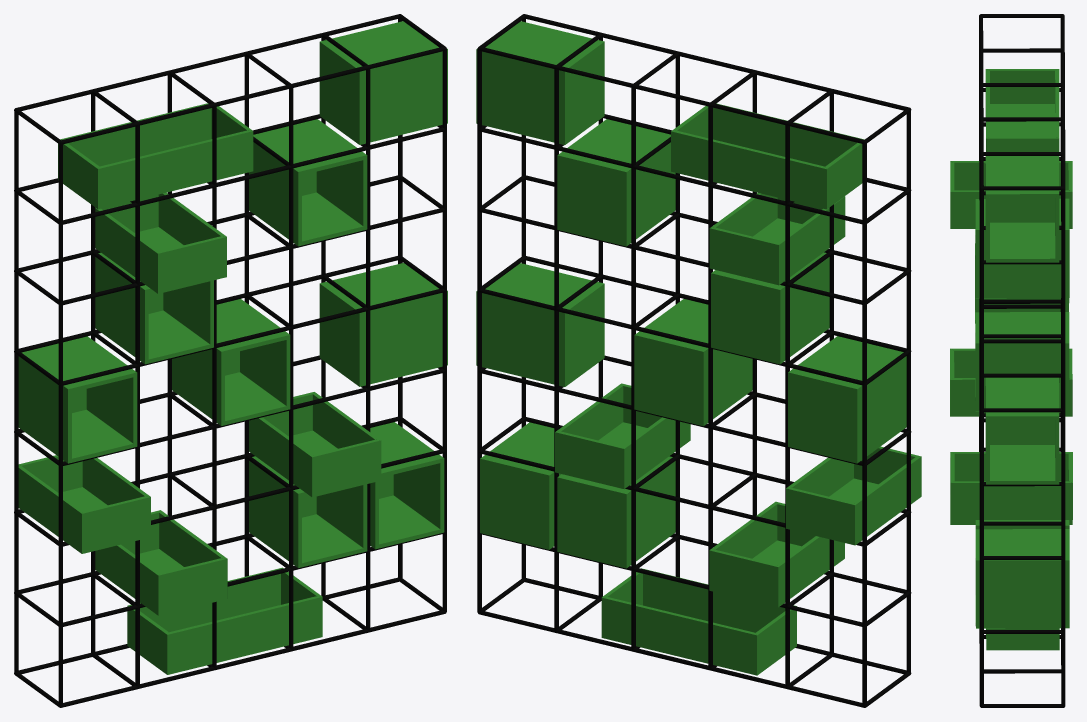
The model's file is Iron shelf.FBX.
3 renders of one model, left to right at view 1: azimuth 30°, elevation 25°; view 2: azimuth 150°, elevation 25°; view 3: azimuth 270°, elevation 25°, orthographic. The views are drawn at different scales.
Parts seen in each view (by area): view 1: Box074, Box075, Box069, Box067, Box064, Box068, Box063, Box072, Box071, Box073, Box070, Box066 (+34 smaller); view 2: Box074, Box075, Box069, Box067, Box064, Box068, Box063, Box066, Box065, Box072, Box071, Box070 (+35 smaller); view 3: Box062, Box067, Box069, Box074, Box063, Box071, Box068, Box073, Box072, Rectangle082, Box075, Rectangle084 (+18 smaller).
Part boxes in pixels (left/top/right/bottom): Box074: left=58, top=103, right=253, bottom=209; Box075: left=127, top=567, right=322, bottom=674; Box069: left=319, top=21, right=447, bottom=144; Box067: left=319, top=263, right=447, bottom=386; Box064: left=18, top=336, right=137, bottom=463; Box068: left=249, top=119, right=367, bottom=246; Box063: left=172, top=299, right=290, bottom=425; Box072: left=18, top=455, right=150, bottom=553; Box071: left=249, top=392, right=381, bottom=497; Box073: left=95, top=192, right=226, bottom=293; Box070: left=95, top=510, right=227, bottom=615; Box066: left=249, top=456, right=367, bottom=567; Box074: left=671, top=103, right=864, bottom=209; Box075: left=601, top=568, right=796, bottom=675; Box069: left=476, top=21, right=604, bottom=144; Box067: left=476, top=263, right=604, bottom=386; Box064: left=788, top=336, right=906, bottom=463; Box068: left=557, top=119, right=675, bottom=246; Box063: left=634, top=299, right=752, bottom=426; Box066: left=557, top=456, right=675, bottom=568; Box065: left=711, top=252, right=829, bottom=364; Box072: left=786, top=446, right=921, bottom=545; Box071: left=555, top=383, right=690, bottom=489; Box070: left=709, top=501, right=844, bottom=607; Box062: left=975, top=529, right=1069, bottom=628; Box067: left=985, top=377, right=1059, bottom=484; Box069: left=985, top=156, right=1059, bottom=262; Box074: left=985, top=69, right=1059, bottom=151; Box063: left=975, top=312, right=1069, bottom=411; Box071: left=950, top=452, right=1072, bottom=519; Box068: left=975, top=198, right=1069, bottom=298; Box073: left=950, top=161, right=1072, bottom=228; Box072: left=950, top=348, right=1072, bottom=416; Rectangle082: left=979, top=152, right=1065, bottom=263; Box075: left=986, top=628, right=1059, bottom=650; Rectangle084: left=979, top=630, right=1065, bottom=707.
Bounding box in the file's own units: 80.3 × 111 × 23.73.
